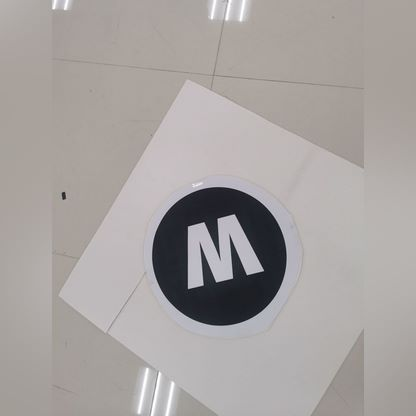W: (155, 181, 268, 306)
